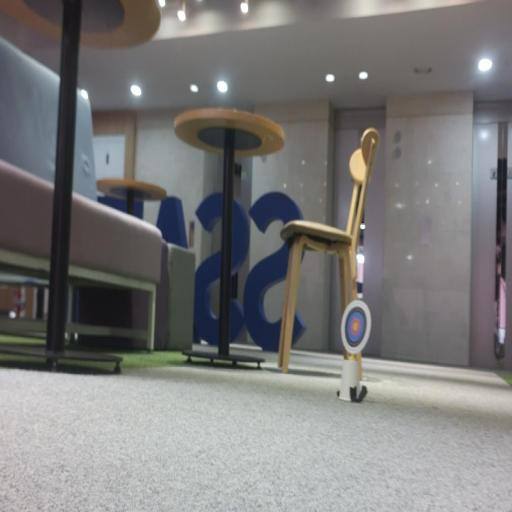target: (340, 299, 371, 358)
